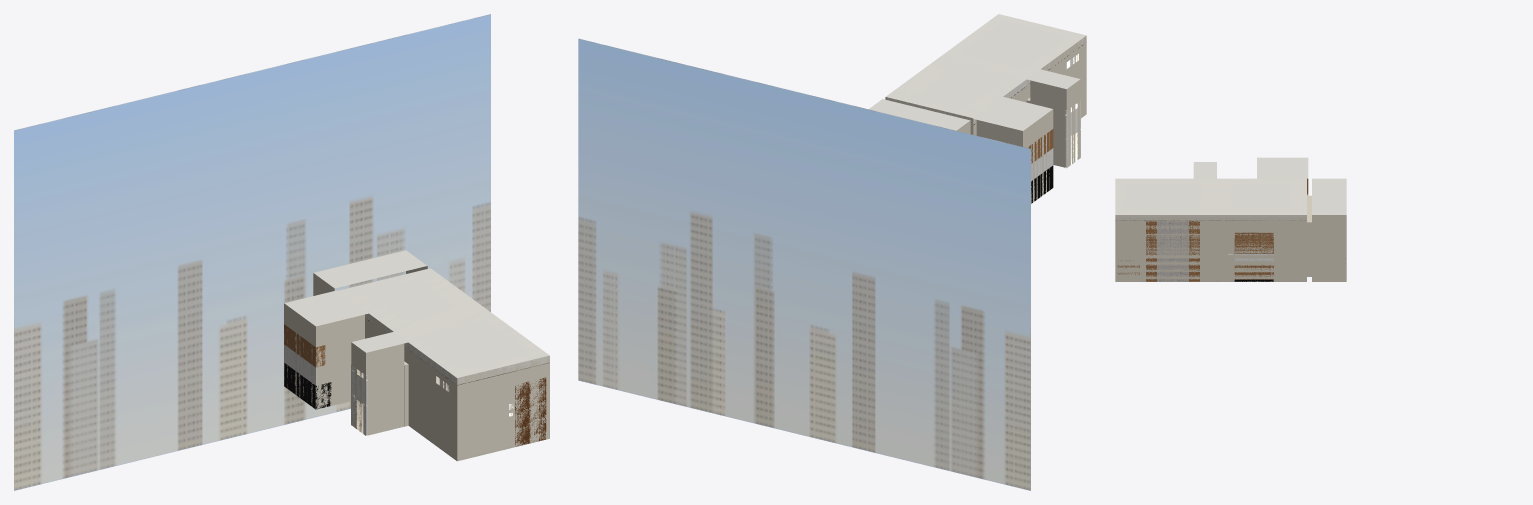
Rendered from hall_v1.glb.
3 views of the same model, side by side, from view 1: azimuth 30°, elevation 25°; view 2: azimuth 150°, elevation 25°; view 3: azimuth 270°, elevation 25° (orthographic). The views are drawn at different scales.
Visible parts, largest first — view 1: Outside View, Shell_Ceiling, Shell_Front Wall, LM_FalseCeiling, Shell_Left Wall, Shell_Kitchen Side A, Shell_Corridor Side A, LM_KitchenGlimpse, Shell_Balcony Ceiling Outside, Shell_Kitchen Ceiling, LM_MainDoor, Shell_Kitchen Back (+3 smaller); view 2: Outside View, Shell_Ceiling, LM_FalseCeiling, Shell_Corridor Side B, Shell_Kitchen Ceiling, Shell_Left Wall, Shell_Balcony Ceiling Outside, Shell_Kitchen Back, LM_KitchenGlimpse, Shell_Corridor End, Shell_Kitchen Side B, LM_BedDoor (+1 smaller); view 3: Shell_Right Wall, Shell_Ceiling, LM_FalseCeiling, Shell_Balcony Side R Outside, LM_TVMarble, LM_Crockery, Shell_Balcony Ceiling Outside, Shell_Kitchen Ceiling, LM_TVFlutes.
Boxes of the visible parts, x1,y1,x2,y2 form: Outside View: (14,14,490,490); Shell_Ceiling: (338,268,548,377); Shell_Front Wall: (457,355,549,461); LM_FalseCeiling: (339,269,549,384); Shell_Left Wall: (365,314,457,458); Shell_Kitchen Side A: (316,314,364,409); Shell_Corridor Side A: (366,343,404,435); LM_KitchenGlimpse: (284,324,331,409); Shell_Balcony Ceiling Outside: (314,250,426,288); Shell_Kitchen Ceiling: (284,290,368,326); LM_MainDoor: (509,377,546,446); Shell_Kitchen Back: (284,303,315,408); Outside View: (578,38,1030,490); Shell_Ceiling: (886,15,1086,117); LM_FalseCeiling: (886,14,1085,124); Shell_Corridor Side B: (1030,80,1066,167); Shell_Kitchen Ceiling: (973,97,1052,130); Shell_Left Wall: (973,36,1086,135); Shell_Balcony Ceiling Outside: (869,99,970,130); Shell_Kitchen Back: (1023,109,1053,203); LM_KitchenGlimpse: (1028,129,1053,203); Shell_Corridor End: (1066,79,1080,167); Shell_Kitchen Side B: (976,120,1022,146); LM_BedDoor: (1065,100,1080,168); Shell_Right Wall: (1115,215,1306,281); Shell_Ceiling: (1115,180,1306,211); LM_FalseCeiling: (1115,178,1306,220); Shell_Balcony Side R Outside: (1312,215,1346,281); LM_TVMarble: (1157,220,1188,281); LM_Crockery: (1234,232,1273,281); Shell_Balcony Ceiling Outside: (1312,178,1346,214); Shell_Kitchen Ceiling: (1257,157,1308,178); LM_TVFlutes: (1146,221,1199,281).
Size of the model in its own units: 18 by 13 by 16.4.
Materials: 95 (61 with a texture image).
